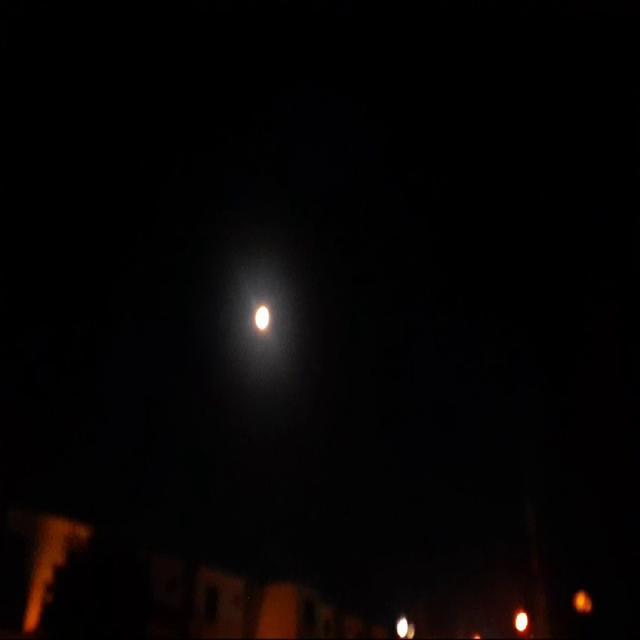moon: (255, 301, 277, 340)
